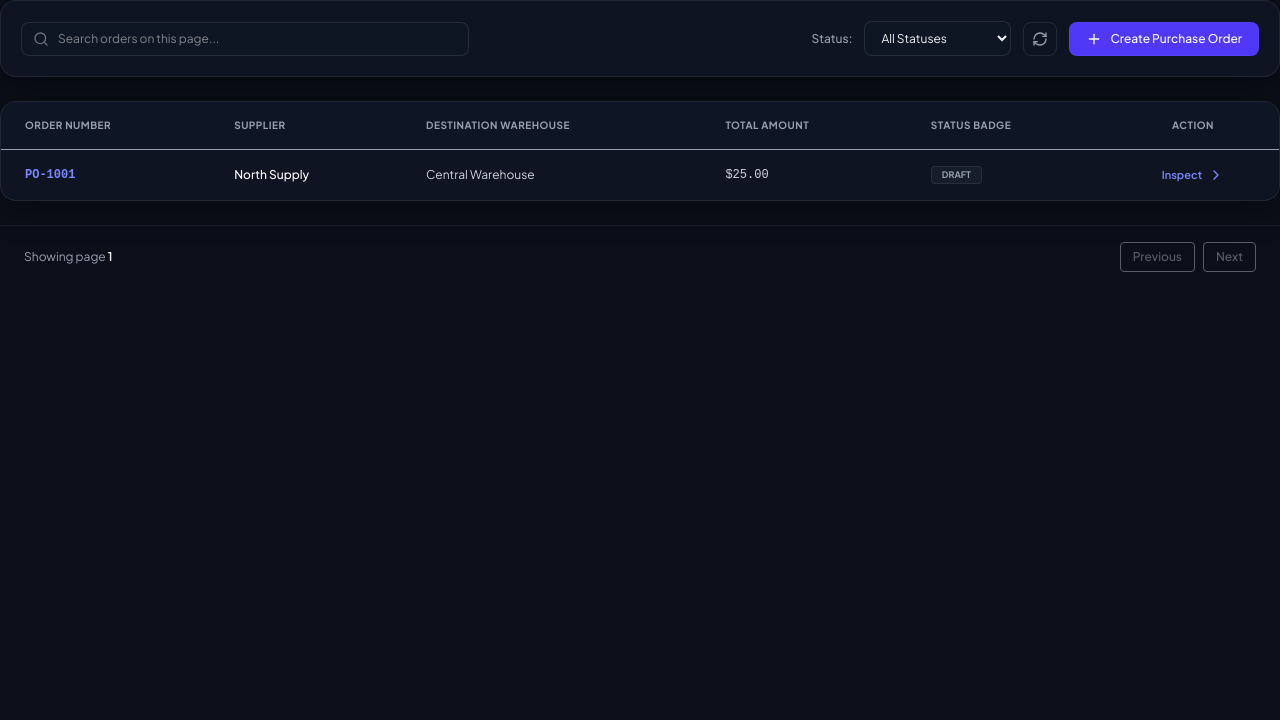
purchase orders › shows the API rejection and retains the draft fields
Expected: the text "PO-1001" is shown, [1,150,210,200]
Click the button "Create Purchase Order" at (1164, 38), box [1070,22,1259,56]
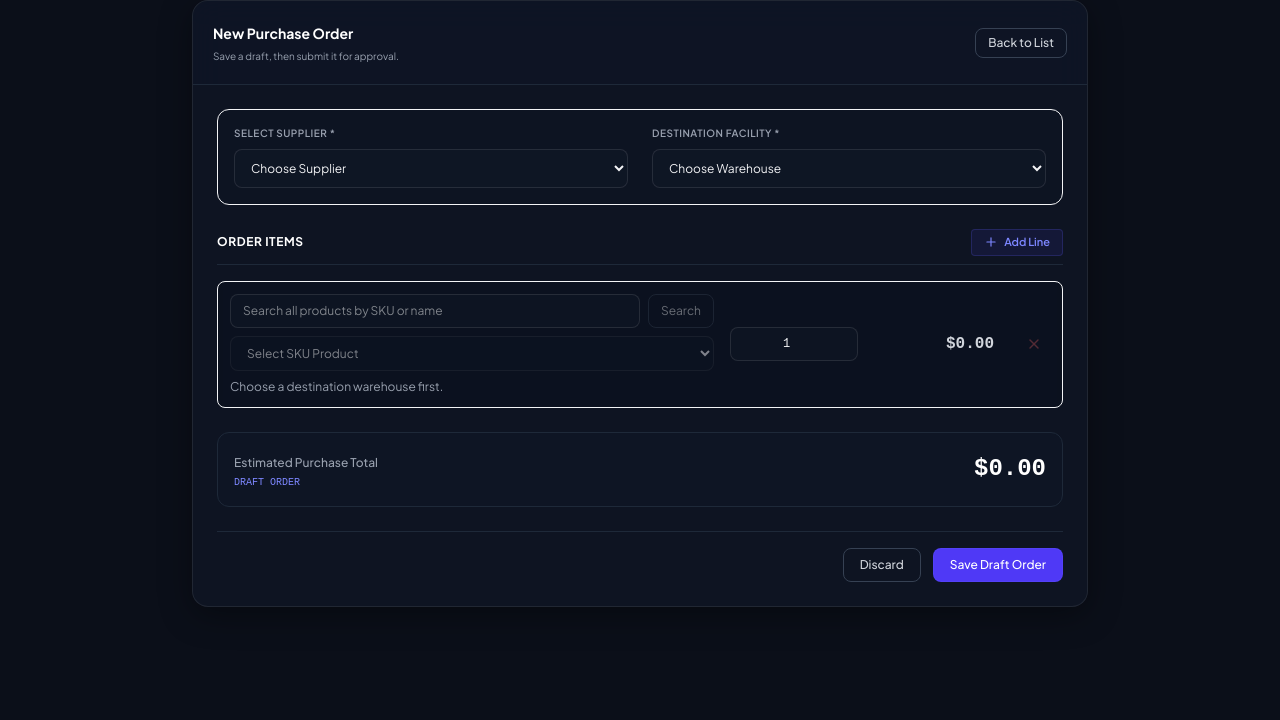
Select "North Supply" in the dropdown below "Select Supplier *" at (431, 168), box [234,149,628,188]
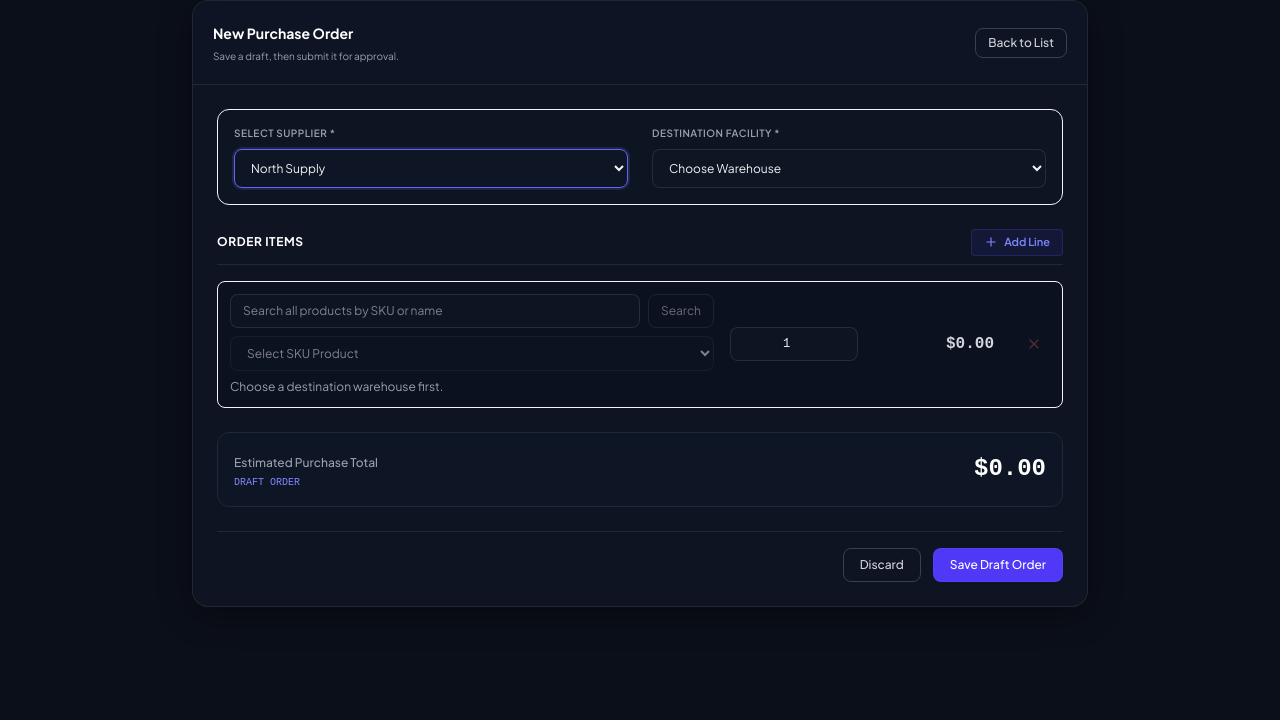
Select "Central Warehouse" in the dropdown below "Destination Facility *" at (849, 168), box [652,149,1046,188]
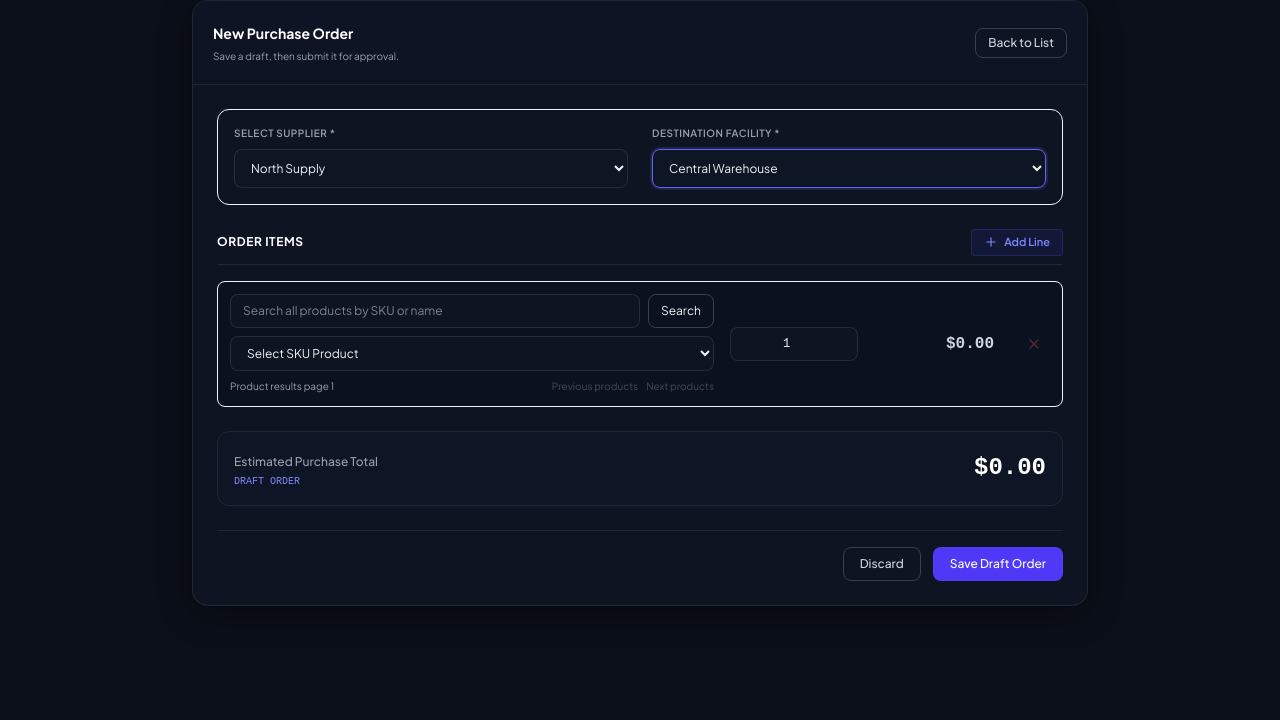
Select "SOAP-01 - Hand Soap ($12.50)" in the dropdown named "Select SKU Product" at (472, 353), box [230,336,714,370]
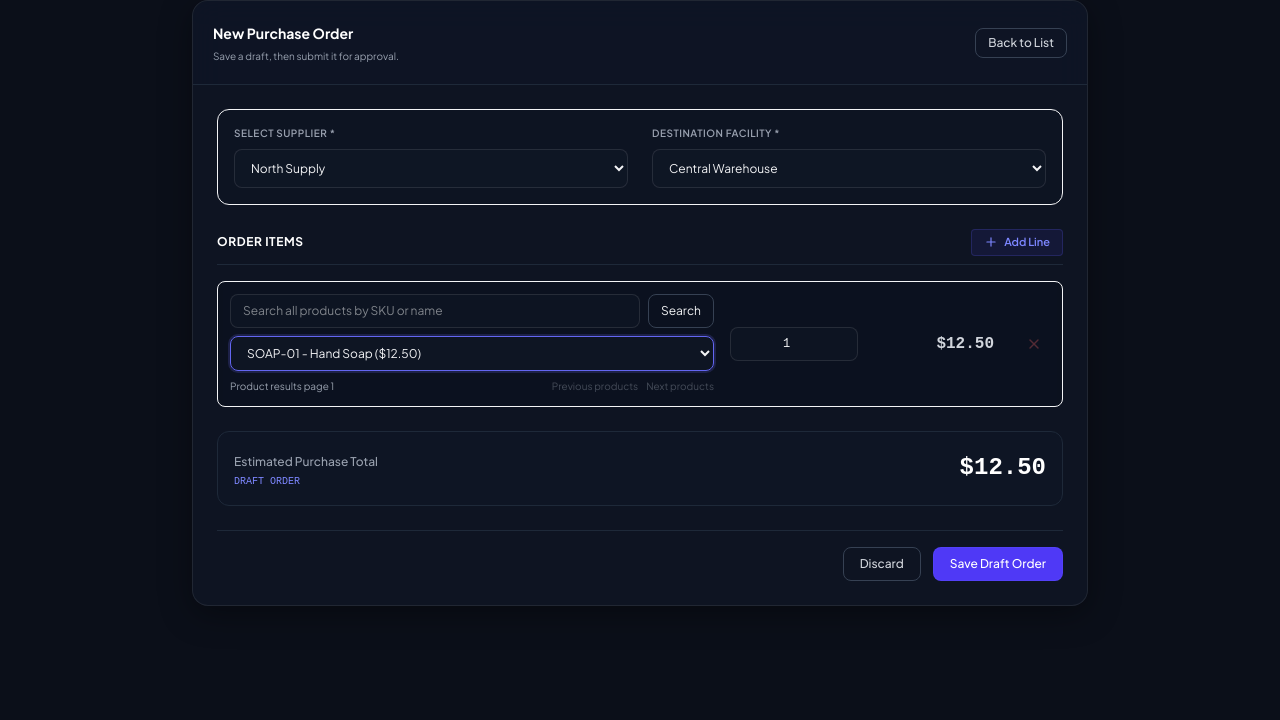
Click the button "Save Draft Order" at (998, 564), box [933,546,1063,580]
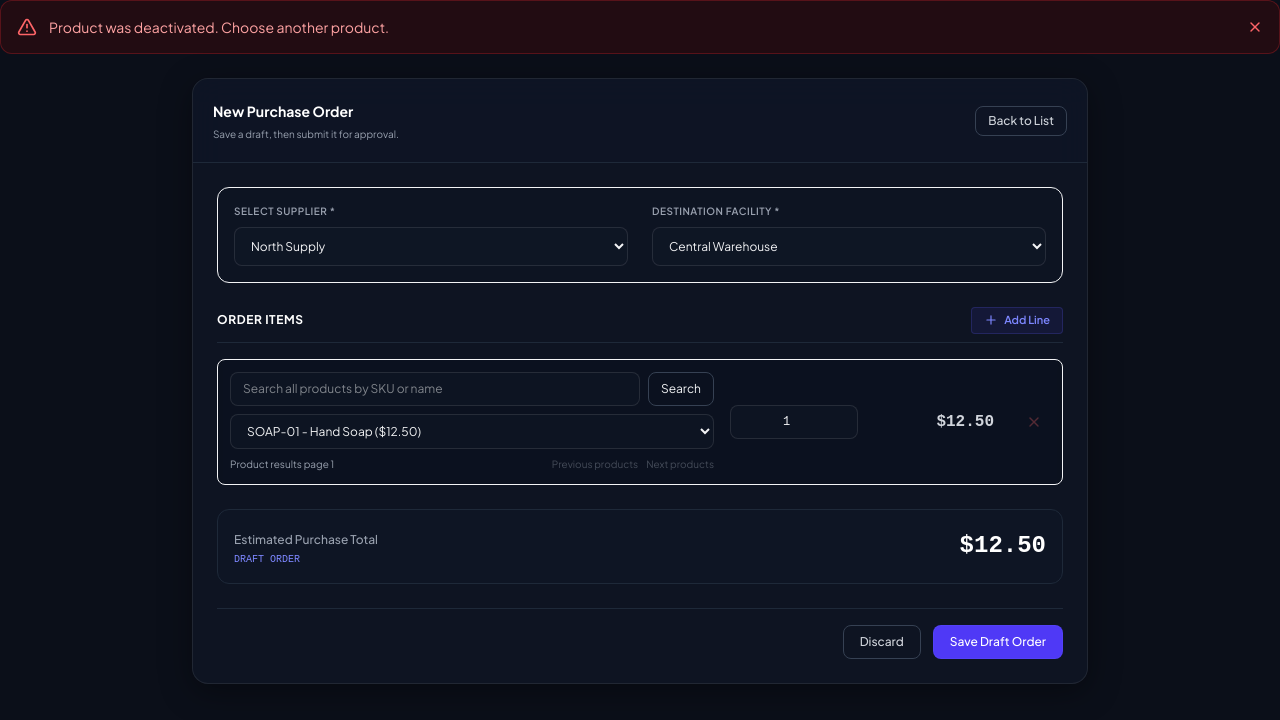
Expected: the text "Product was deactivated. Choose another product." is shown, [49,17,389,37]
